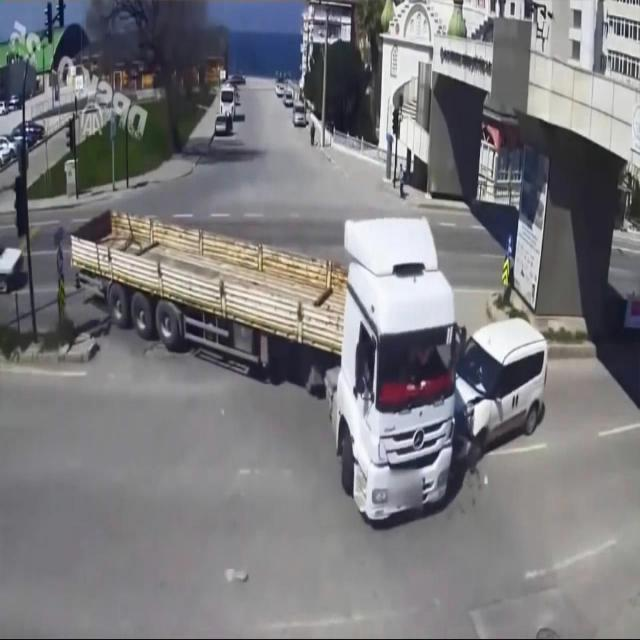multiple_accident: (356, 271, 554, 496)
